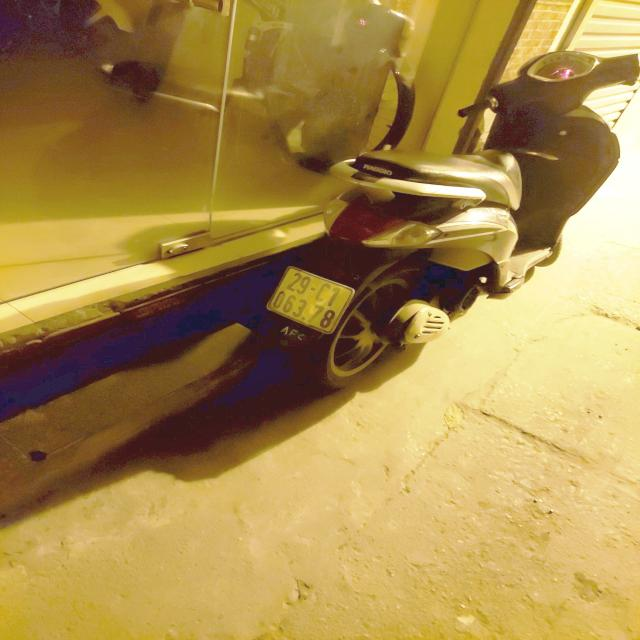license_plate: (266, 267, 357, 336)
